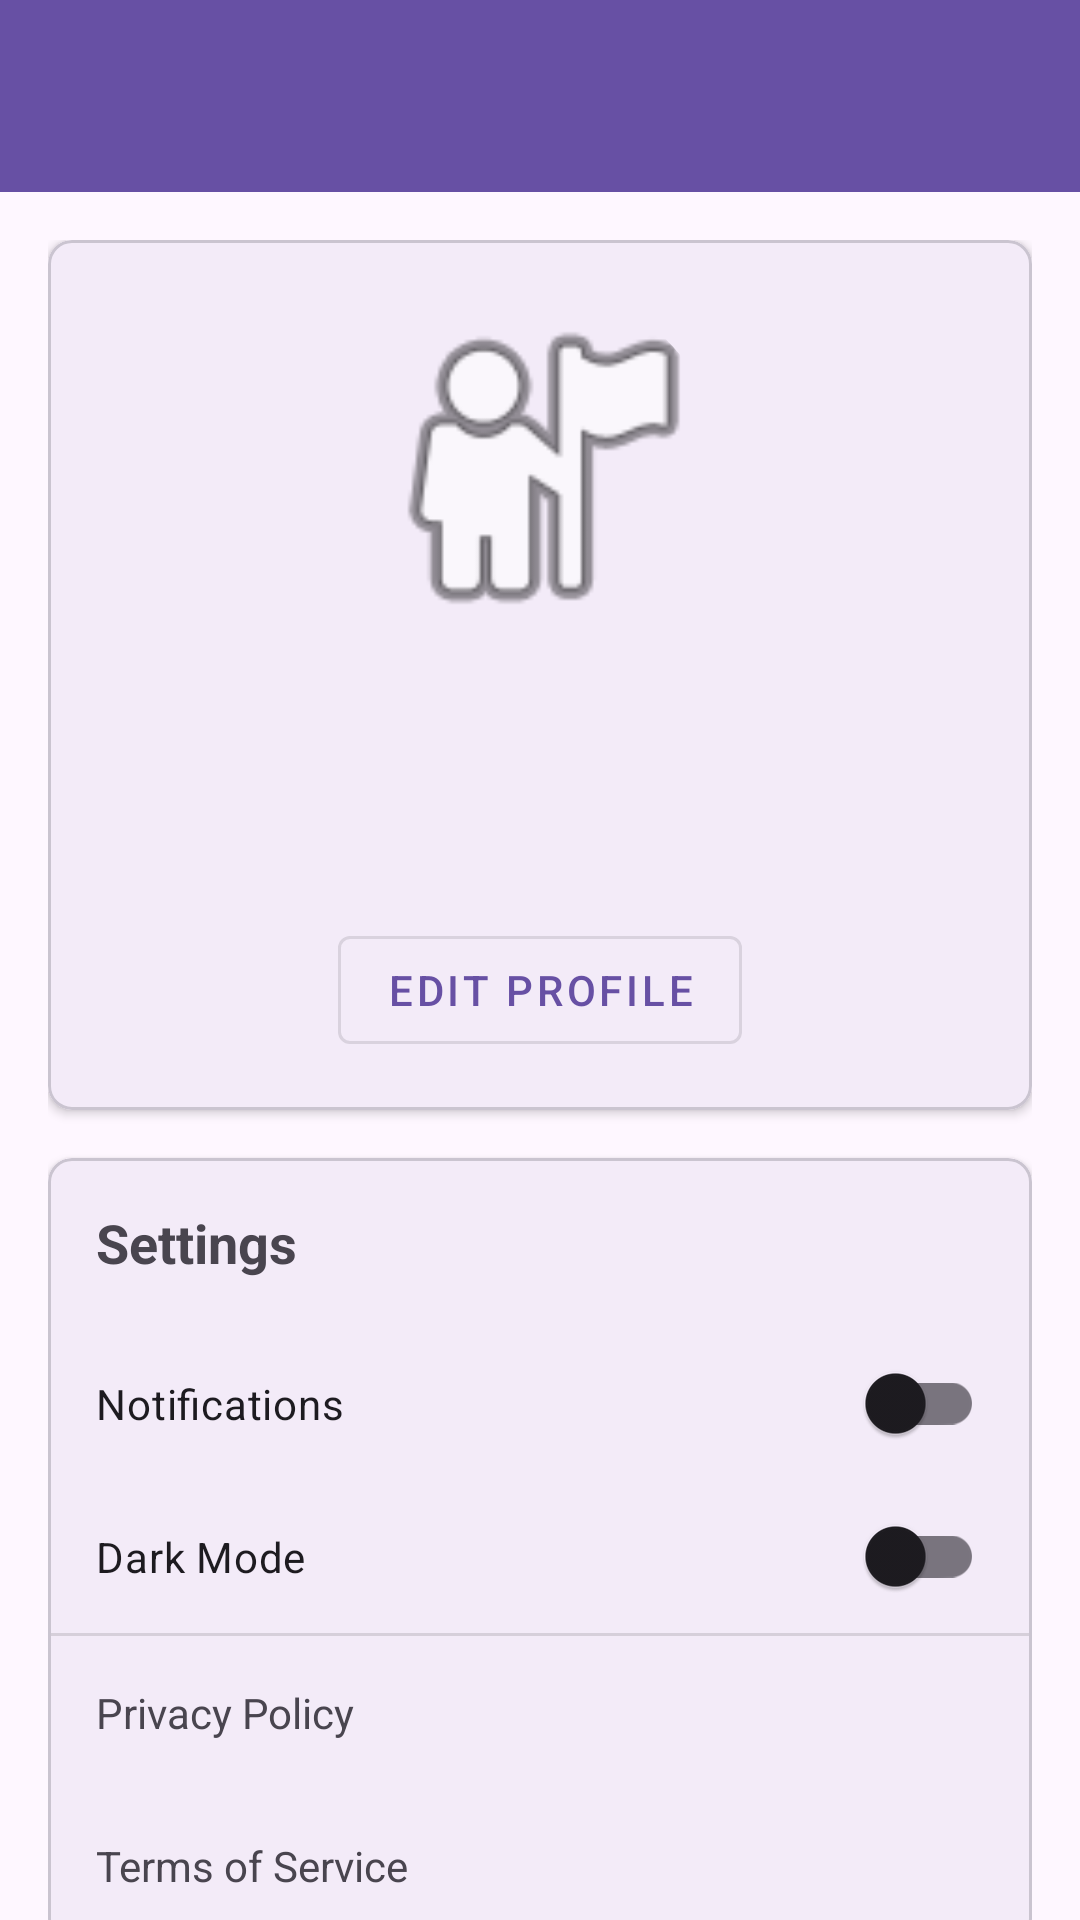

Screen size 1080*1920. Icon name, then its box in pixels as (x1, y1, x2, y2):
myplaces: (408, 333, 679, 603)
